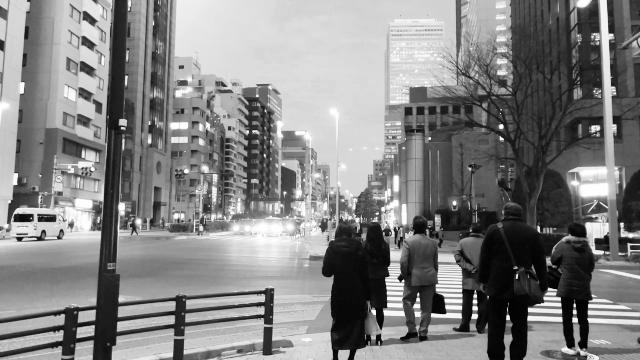berdiri: (472, 204, 548, 360), (550, 211, 596, 360), (322, 212, 366, 360), (398, 212, 436, 348), (455, 221, 491, 335)
